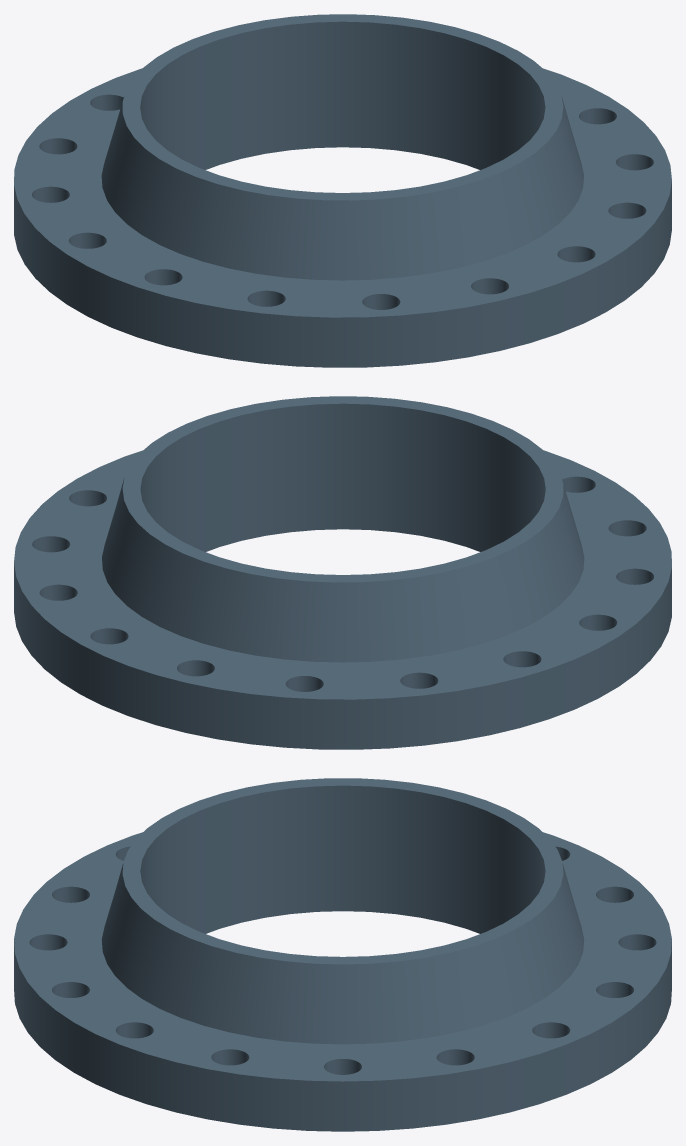
File: flanec-vorotnikovyj-DN350-PN40.glb
3 views of the same model, one above another, from view 1: azimuth 30°, elevation 25°; view 2: azimuth 150°, elevation 25°; view 3: azimuth 270°, elevation 25° (orthographic).
Visible parts, largest first — view 1: Open CASCADE STEP translator 7.9 100; view 2: Open CASCADE STEP translator 7.9 100; view 3: Open CASCADE STEP translator 7.9 100.
Boxes of the visible parts, x1=… form: Open CASCADE STEP translator 7.9 100: x1=14, y1=14, x2=671, y2=367; Open CASCADE STEP translator 7.9 100: x1=14, y1=396, x2=671, y2=749; Open CASCADE STEP translator 7.9 100: x1=14, y1=778, x2=671, y2=1131.
Bounding box in the file's own units: 570 × 120 × 570.
